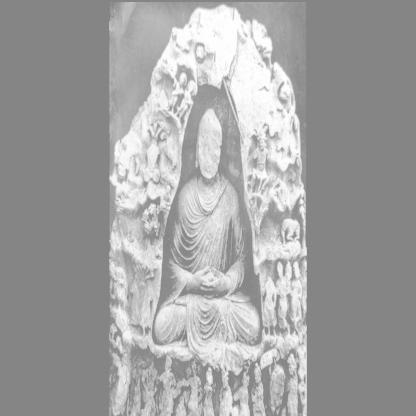buddha-sitting: (153, 110, 260, 361)
